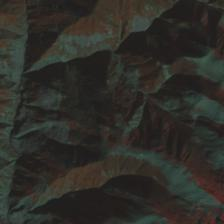landslides: (0, 32, 15, 45), (0, 180, 10, 195)
